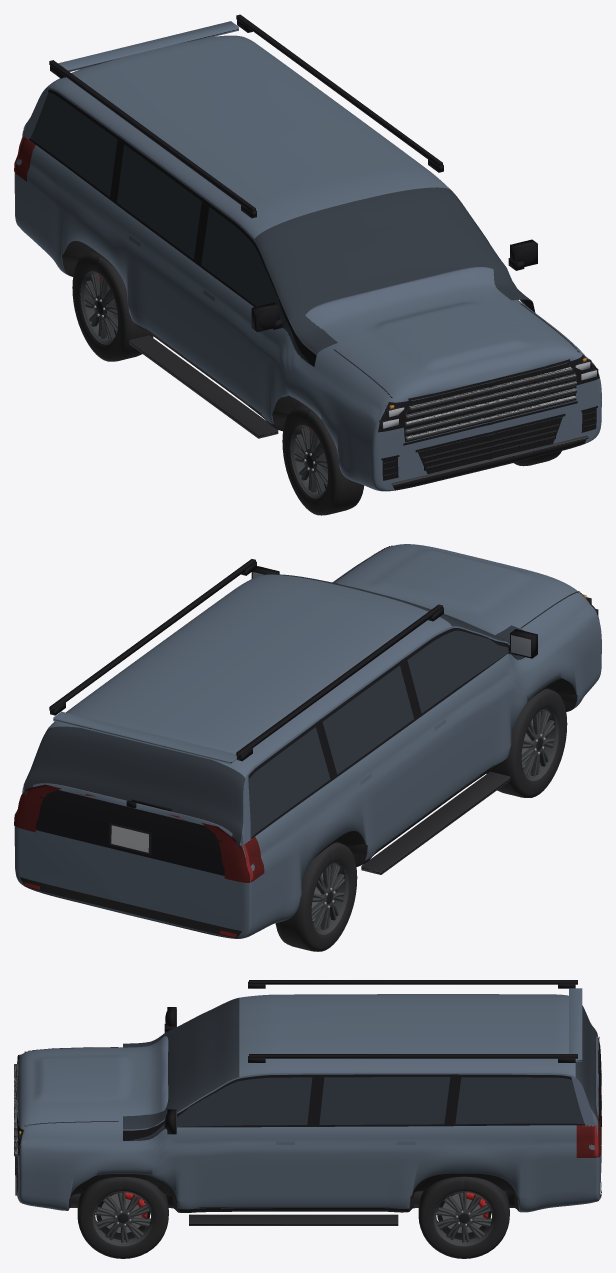
File: expedition.glb
3 renders of one model, top to bottom at view 1: azimuth 30°, elevation 25°; view 2: azimuth 150°, elevation 25°; view 3: azimuth 270°, elevation 25°, orthographic. The views are drawn at different scales.
Parts seen in each view (by area): view 1: Glasshouse, Body, Details, Wheel_FR, Wheel_RR, WindowTrim, Mirrors; view 2: Glasshouse, Body, Details, Wheel_RR, Wheel_FR, WindowTrim, Mirrors, Plate; view 3: Body, Glasshouse, Details, Wheel_RL, Wheel_FL, WindowTrim, Brakes, Mirrors.
Part boxes in pixels (x1=…): Glasshouse: x1=22, y1=35, x2=535, y2=366; Body: x1=14, y1=136, x2=601, y2=491; Details: x1=14, y1=14, x2=599, y2=490; Wheel_FR: x1=282, y1=406, x2=364, y2=515; Wheel_RR: x1=72, y1=252, x2=153, y2=361; WindowTrim: x1=29, y1=89, x2=488, y2=364; Mirrors: x1=251, y1=239, x2=537, y2=332; Glasshouse: x1=22, y1=574, x2=524, y2=847; Body: x1=14, y1=544, x2=601, y2=938; Details: x1=14, y1=545, x2=599, y2=938; Wheel_RR: x1=275, y1=842, x2=357, y2=951; Wheel_FR: x1=486, y1=688, x2=567, y2=797; WindowTrim: x1=249, y1=628, x2=524, y2=838; Mirrors: x1=251, y1=566, x2=537, y2=658; Plate: x1=111, y1=825, x2=148, y2=852; Body: x1=17, y1=1035, x2=601, y2=1212; Glasshouse: x1=123, y1=994, x2=599, y2=1140; Details: x1=14, y1=980, x2=601, y2=1225; Wheel_RL: x1=418, y1=1176, x2=509, y2=1258; Wheel_FL: x1=77, y1=1177, x2=168, y2=1258; WindowTrim: x1=127, y1=1074, x2=584, y2=1140; Brakes: x1=101, y1=1192, x2=488, y2=1232; Mirrors: x1=164, y1=1007, x2=176, y2=1134.
Bounding box in the file's own units: 2.4 × 1.98 × 5.37.
